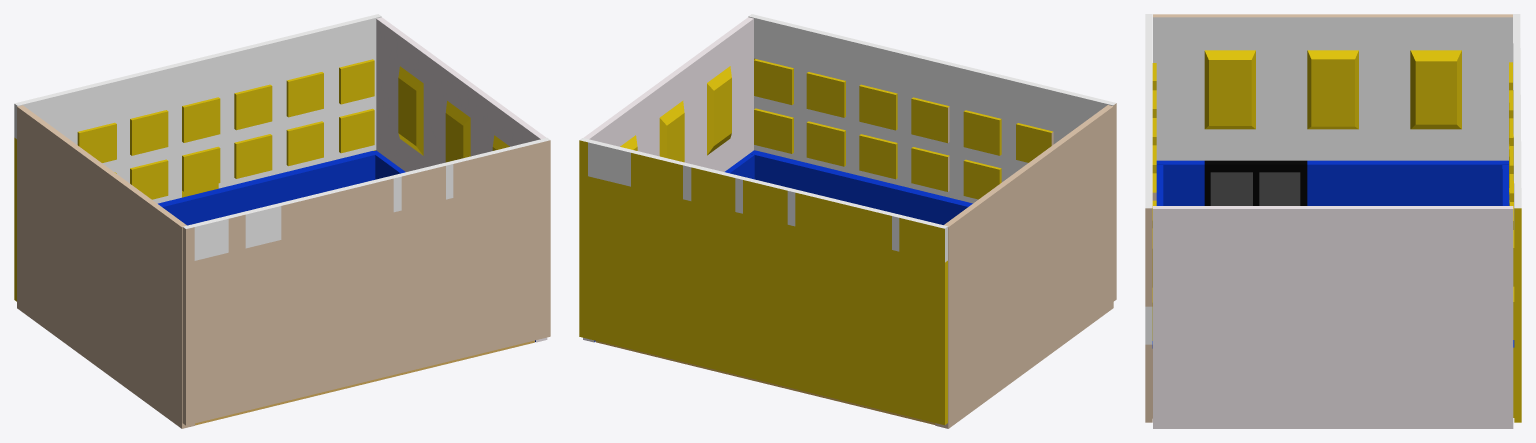
File: courtroom.fbx
3 renders of one model, left to right at view 1: azimuth 30°, elevation 25°; view 2: azimuth 150°, elevation 25°; view 3: azimuth 270°, elevation 25°, orthographic. The views are drawn at different scales.
Parts seen in each view (by area): view 1: Cube.001, Cube.002, Cube.003, Cube.004, Cube; view 2: Cube.002, Cube.001, Cube.003, Cube.004, Cube; view 3: Cube.004, Cube.003, Cube.002, Cube.001.
Part boxes in pixels (<box>): Cube.001: <box>182,137,550,425</box>; Cube.002: <box>14,14,381,301</box>; Cube.003: <box>17,105,194,428</box>; Cube.004: <box>374,17,547,342</box>; Cube: <box>195,340,534,425</box>; Cube.002: <box>579,138,948,425</box>; Cube.001: <box>748,14,1116,301</box>; Cube.003: <box>935,105,1113,428</box>; Cube.004: <box>583,17,754,342</box>; Cube: <box>595,341,935,424</box>; Cube.004: <box>1153,206,1513,428</box>; Cube.003: <box>1153,14,1512,205</box>; Cube.002: <box>1502,14,1521,422</box>; Cube.001: <box>1145,14,1163,422</box>.
Bounding box in the file's own units: 12612 × 6678 × 10309.
